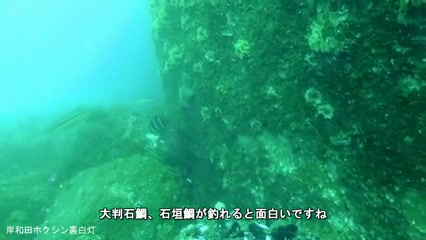ishidai: (144, 109, 171, 137)
